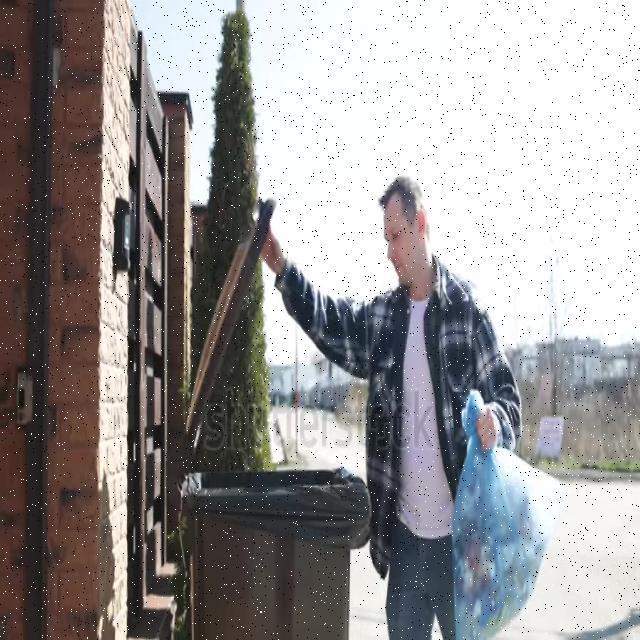human: (257, 156, 524, 640)
trash: (452, 385, 550, 636)
